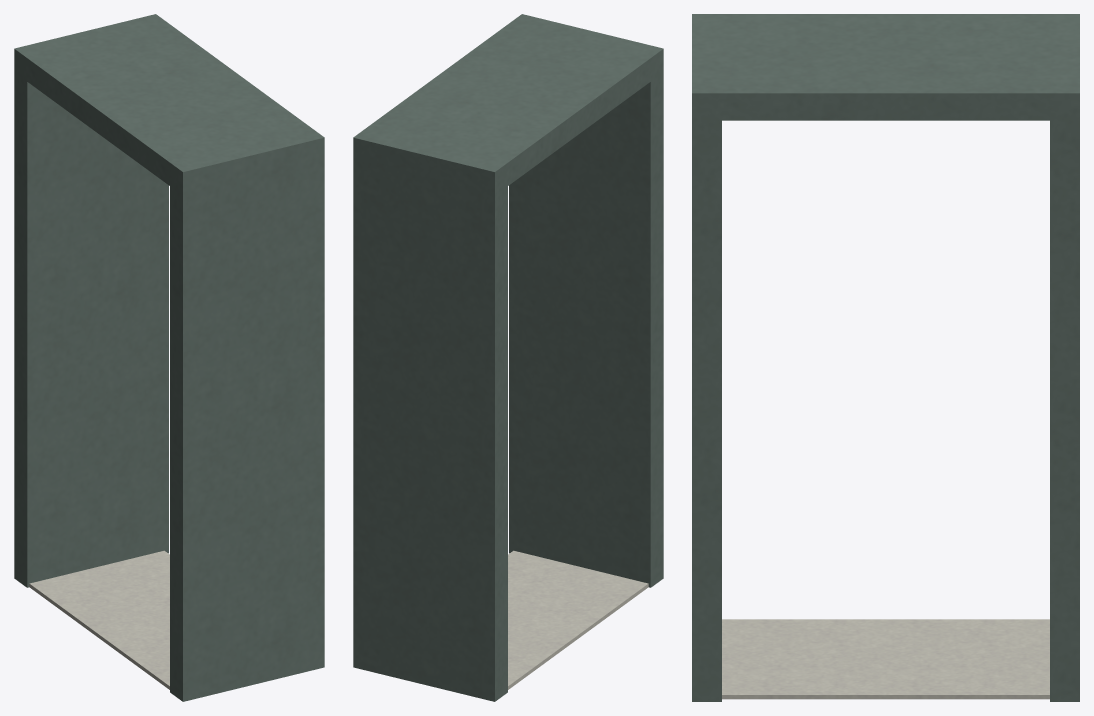
File: SM_L0_ServiceDoor_Frame.fbx
The picture shows the model from 3 angles, left to right: view 1: azimuth 30°, elevation 25°; view 2: azimuth 150°, elevation 25°; view 3: azimuth 270°, elevation 25°; orthographic projection. The views are drawn at different scales.
Parts seen in each view (by area): view 1: SM_L0_ServiceDoor_Frame; view 2: SM_L0_ServiceDoor_Frame; view 3: SM_L0_ServiceDoor_Frame.
Part boxes in pixels (<box>): SM_L0_ServiceDoor_Frame: <box>14,14,324,701</box>; SM_L0_ServiceDoor_Frame: <box>353,14,663,701</box>; SM_L0_ServiceDoor_Frame: <box>692,14,1079,701</box>.
Size of what is drawn, in the model's own units: 0.63 by 2.25 by 1.3.
